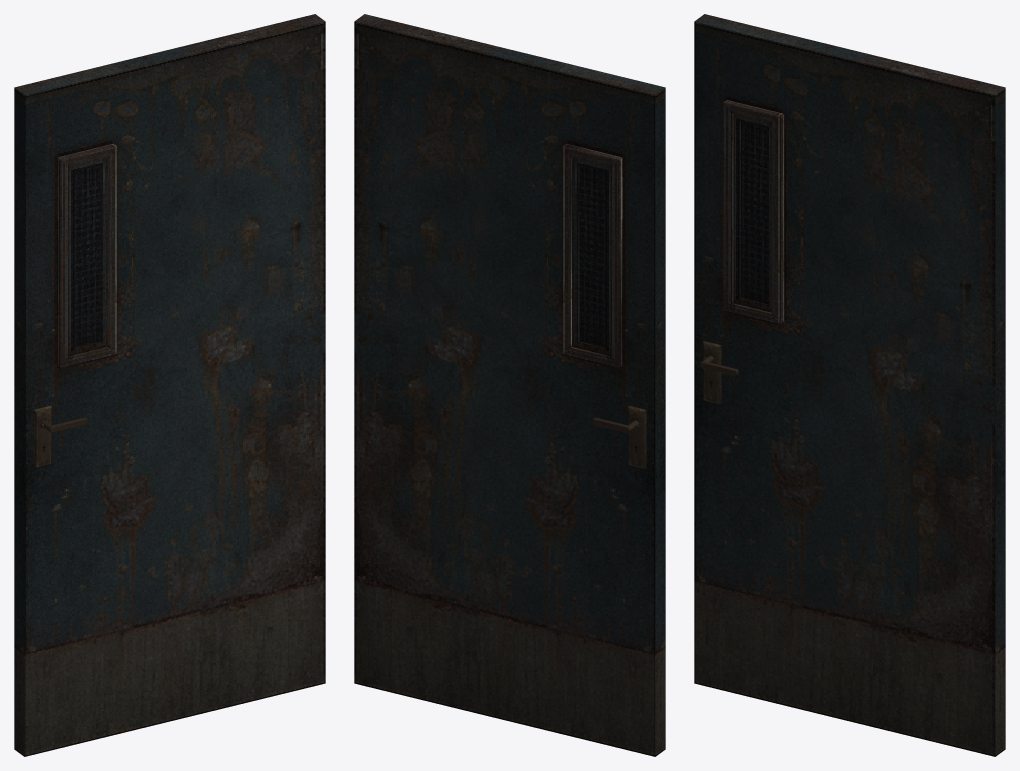
File: door_3_loose.glb
3 renders of one model, left to right at view 1: azimuth 30°, elevation 25°; view 2: azimuth 150°, elevation 25°; view 3: azimuth 330°, elevation 25°, orthographic.
Parts seen in each view (by area): view 1: door_3_loose; view 2: door_3_loose; view 3: door_3_loose.
Part boxes in pixels (x1,y1,x2,y2): door_3_loose: (14,14,325,756); door_3_loose: (354,14,665,756); door_3_loose: (694,14,1005,756).
Size of the model in its own units: 1 by 2.1 by 0.178.
2 materials, 2 textured.
